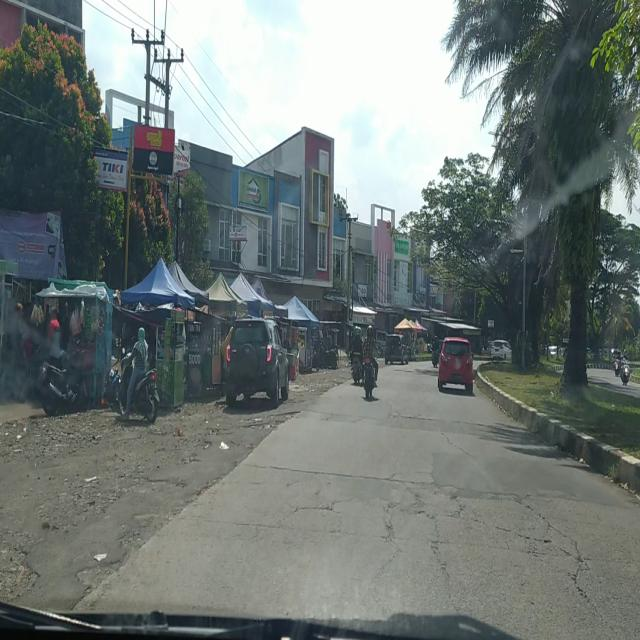Drain Hole: (386, 484, 582, 586)
Sewer Cover: (274, 496, 354, 524)
